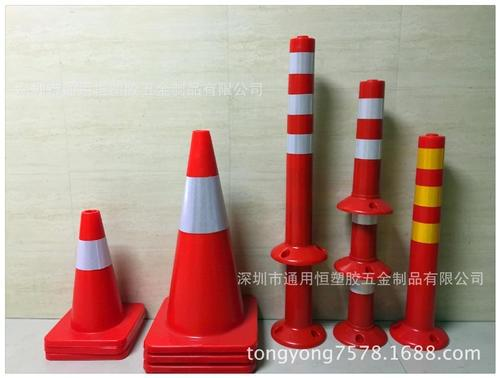cone_barrel: (143, 132, 258, 365), (389, 119, 455, 353), (48, 212, 136, 354)
